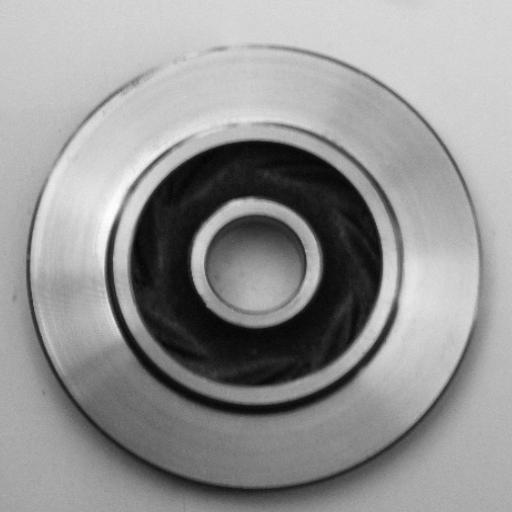scratch: (114, 42, 238, 91), (155, 108, 287, 152)
unpolished_casting: (25, 42, 482, 496)
